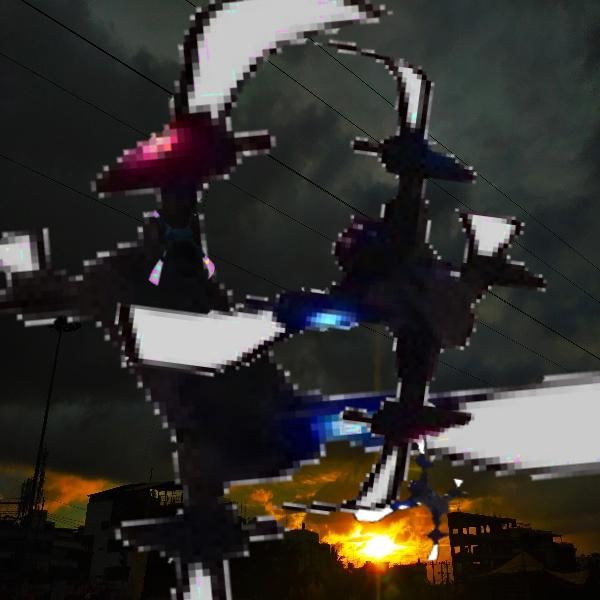drone: (84, 26, 574, 516), (339, 428, 475, 564), (138, 206, 227, 295)
